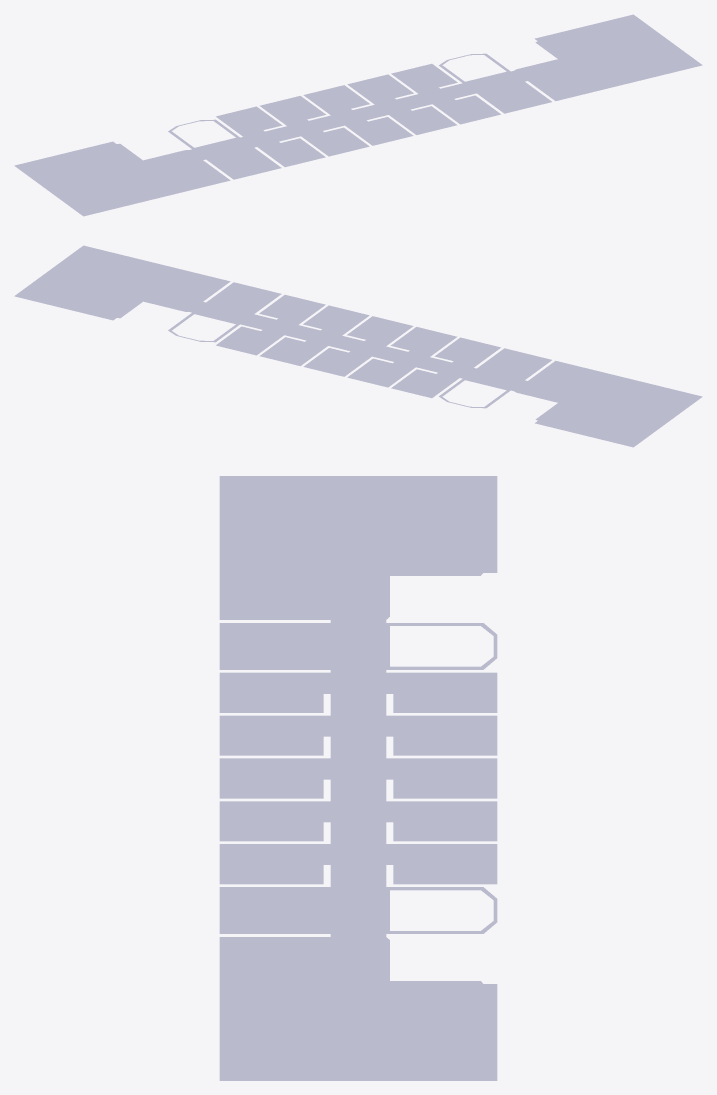
Rendered from Level_04_Floor.fbx.
3 views of the same model, one above another, from view 1: azimuth 30°, elevation 25°; view 2: azimuth 150°, elevation 25°; view 3: azimuth 270°, elevation 25° (orthographic). The views are drawn at different scales.
Parts seen in each view (by area): view 1: Level_04_Floor; view 2: Level_04_Floor; view 3: Level_04_Floor.
Part boxes in pixels (<box>): Level_04_Floor: <box>14,14,702,216</box>; Level_04_Floor: <box>14,245,702,447</box>; Level_04_Floor: <box>219,476,497,1080</box>.
Bounding box in the file's own units: 20600 × 0.000909 × 4000.
